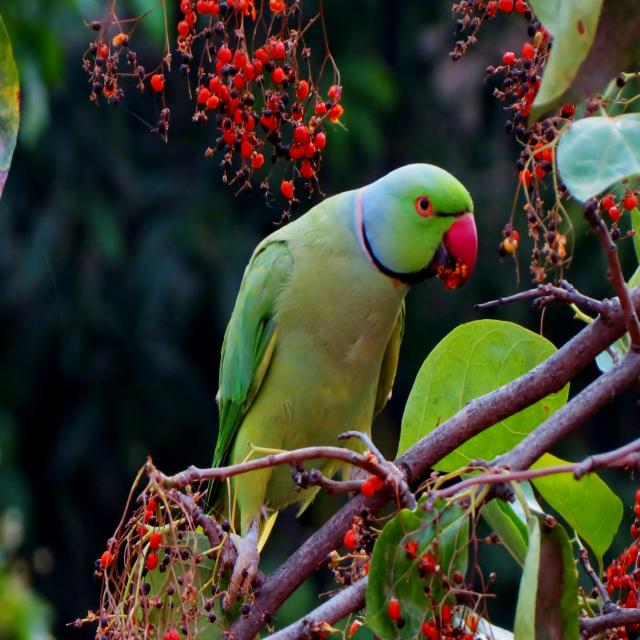Parrot: (226, 157, 481, 582)
